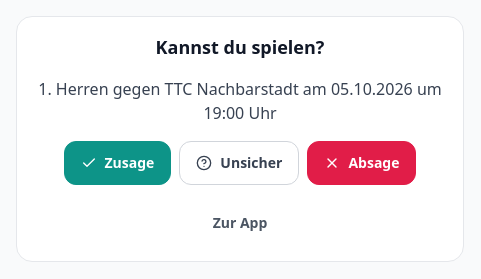
ActionPage › nennt die Antwort beim Namen
Expected: the heading "Kannst du spielen?" is shown, [156,35,324,59]
Click the button "Absage" at (362,163), box [307,141,416,185]
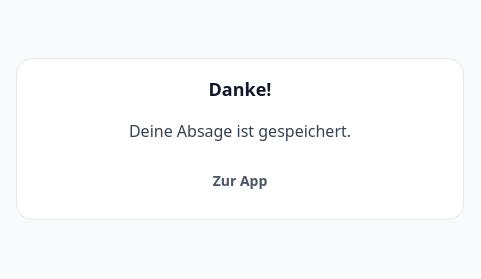
Now the text "Deine Absage ist gespeichert." is shown, box [129,120,351,142]
